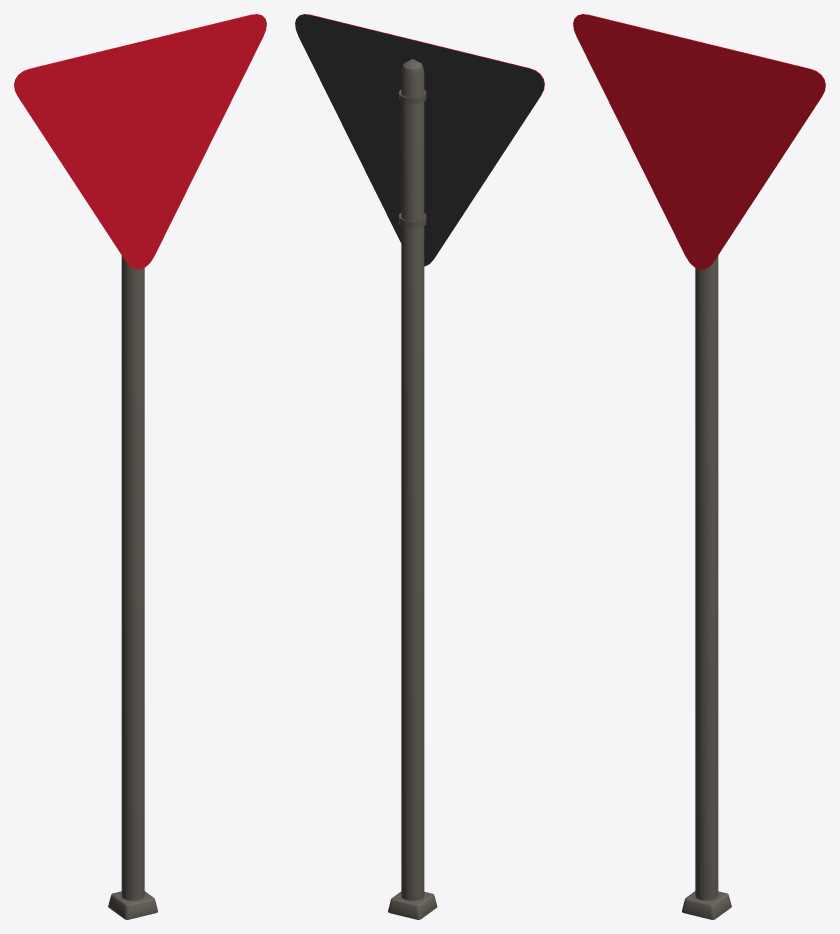
File: street_sign3.fbx
The picture shows the model from 3 angles, left to right: view 1: azimuth 30°, elevation 25°; view 2: azimuth 150°, elevation 25°; view 3: azimuth 330°, elevation 25°; orthographic projection.
Parts seen in each view (by area): view 1: Sign_1.002; view 2: Sign_1.002; view 3: Sign_1.002.
Boxes of the visible parts, x1,y1,x2,y2 form: Sign_1.002: [14, 14, 266, 919]; Sign_1.002: [295, 14, 544, 919]; Sign_1.002: [573, 14, 825, 919].
Size of the model in its own units: 103 by 341 by 13.67.
